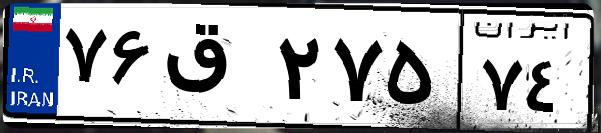2: (270, 28, 330, 110)
4: (525, 38, 570, 115)
5: (385, 28, 445, 110)
6: (110, 28, 158, 98)
7: (330, 28, 385, 110), (57, 26, 110, 100), (475, 38, 525, 113)
ق: (158, 20, 270, 120)
